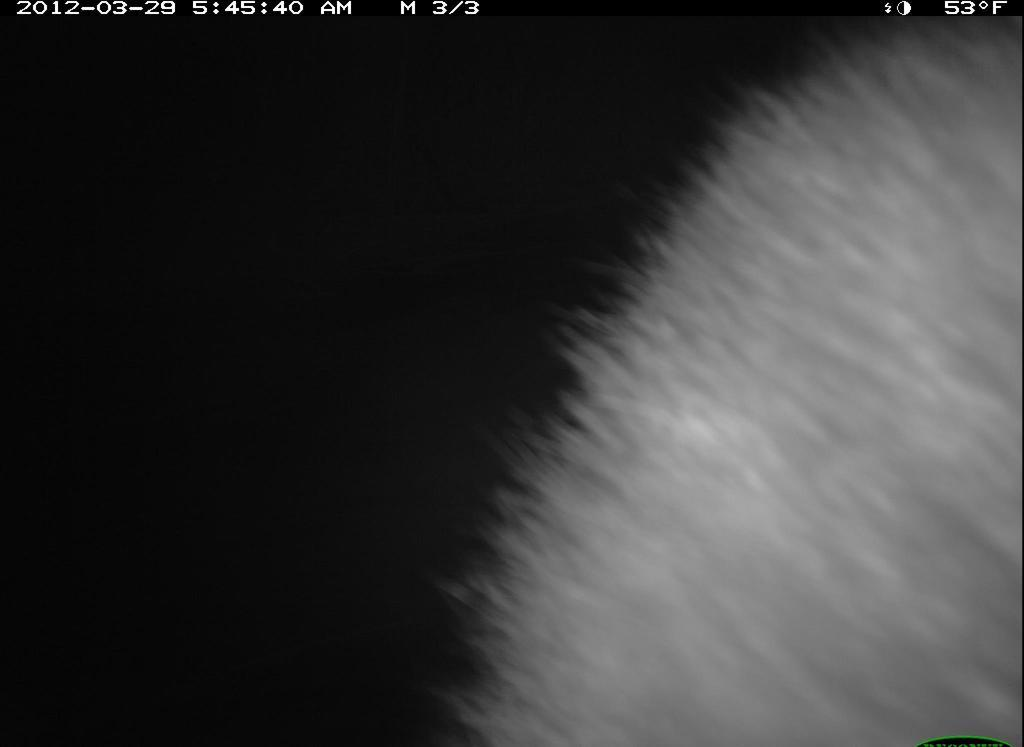raccoon: (410, 17, 1022, 747)
